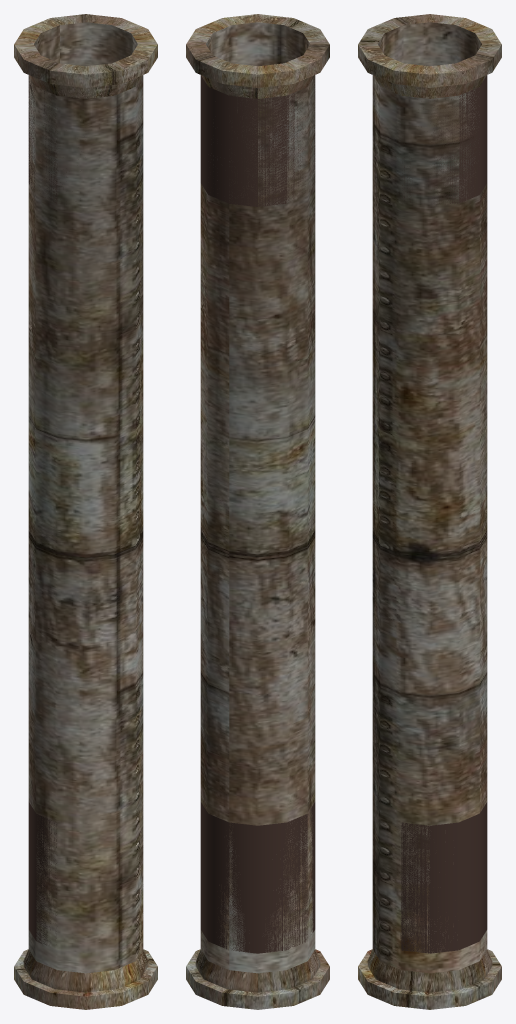
The model's file is railpipe07.glb.
The picture shows the model from 3 angles, left to right: view 1: azimuth 30°, elevation 25°; view 2: azimuth 150°, elevation 25°; view 3: azimuth 270°, elevation 25°; orthographic projection.
Size of the model in its own units: 20.97 by 151 by 20.97.
2 materials, 2 textured.
